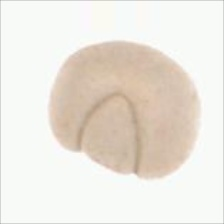L5: (74, 91, 142, 178)
L6: (45, 38, 204, 182)
